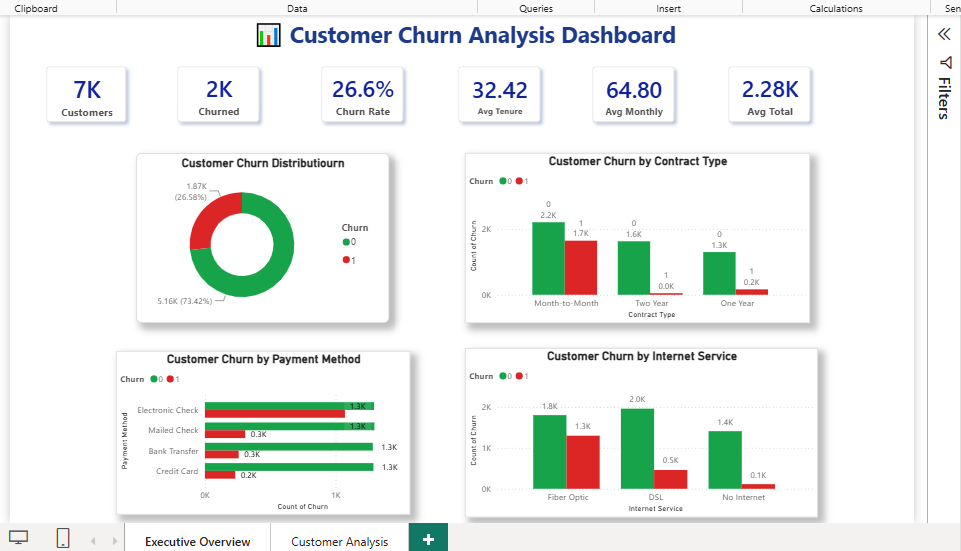

Layout of this report page (visuals, bound fields, positions):
{"tool":"powerbi","page":{"name":"Executive Overview","canvas":[1280,720],"ordinal":0},"visuals":[{"type":"cardVisual","fields":{"Data":["CustomerChurn.Total Customers"]},"box":[22.7,43.9,171.5,137.5],"z":0},{"type":"cardVisual","fields":{"Data":["CustomerChurn.Total Churned Customers"]},"box":[208.5,43.9,189.9,137.5],"z":1000},{"type":"cardVisual","fields":{"Data":["CustomerChurn.Churn Rate"]},"box":[412.8,43.9,179.7,137],"z":2000},{"type":"cardVisual","fields":{"Data":["CustomerChurn.Average Tenure"]},"box":[606.8,43.9,175.7,137.5],"z":3000},{"type":"cardVisual","fields":{"Data":["CustomerChurn.Average Monthly Charges"]},"box":[796.9,43.9,178.6,137.5],"z":4000},{"type":"cardVisual","fields":{"Data":["CustomerChurn.Average Total Charges"]},"box":[989.9,43.9,179.7,137],"z":5000},{"type":"donutChart","title":"Customer Churn Distributiourn","fields":{"Category":["CustomerChurn.Churn"],"Y":["CountNonNull(CustomerChurn.Churn)"]},"box":[178.6,195.6,358.6,240.9],"z":6000},{"type":"clusteredColumnChart","title":"Customer Churn by Contract Type","fields":{"Category":["CustomerChurn.Contract Type"],"Y":["CountNonNull(CustomerChurn.Churn)"],"Series":["CustomerChurn.Churn"]},"box":[644.9,195.6,489,240.9],"z":7000},{"type":"clusteredBarChart","title":"Customer Churn by Payment Method","fields":{"Category":["CustomerChurn.Payment Method"],"Y":["CountNonNull(CustomerChurn.Churn)"],"Series":["CustomerChurn.Churn"]},"box":[150.2,476.2,417,232.4],"z":8000},{"type":"clusteredColumnChart","title":"Customer Churn by Internet Service","fields":{"Category":["CustomerChurn.Internet Service"],"Y":["CountNonNull(CustomerChurn.Churn)"],"Series":["CustomerChurn.Churn"]},"box":[644.9,472,500.3,239.5],"z":9000},{"type":"textbox","box":[33.3,0,1221.7,55.1],"z":10000}]}

Visuals, with their boxes on the page's 1280x720 design canvas (x1, y1, x2, y2). These are canvas units, not pixel positions in the 961x551 screenshot, which may show the page scaled, cropped or inside an application window:
cardVisual - CustomerChurn.Total Customers: 23,44,194,181
cardVisual - CustomerChurn.Total Churned Customers: 208,44,398,181
cardVisual - CustomerChurn.Churn Rate: 413,44,592,181
cardVisual - CustomerChurn.Average Tenure: 607,44,782,181
cardVisual - CustomerChurn.Average Monthly Charges: 797,44,976,181
cardVisual - CustomerChurn.Average Total Charges: 990,44,1170,181
"Customer Churn Distributiourn" donutChart: 179,196,537,436
"Customer Churn by Contract Type" clusteredColumnChart: 645,196,1134,436
"Customer Churn by Payment Method" clusteredBarChart: 150,476,567,709
"Customer Churn by Internet Service" clusteredColumnChart: 645,472,1145,712
textbox: 33,0,1255,55
